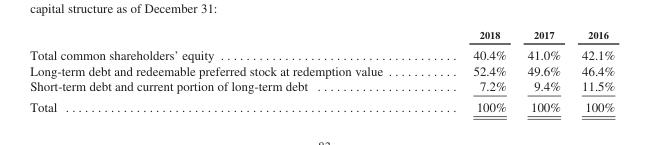table: (29, 28, 614, 113)
table column: (29, 28, 427, 113), (427, 28, 516, 113), (516, 28, 570, 113), (570, 28, 614, 113)
table column header: (29, 28, 614, 44)
table row: (29, 44, 614, 62), (29, 78, 614, 96), (29, 96, 614, 113), (29, 28, 614, 44), (29, 62, 614, 78)
